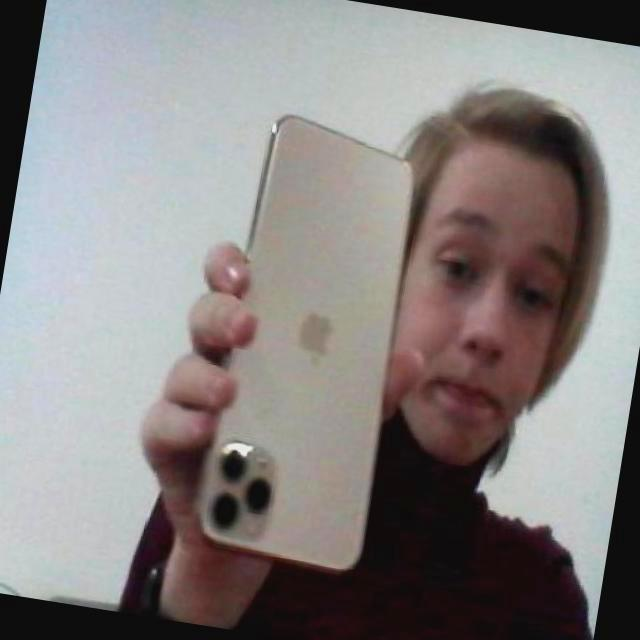lens: (207, 445, 273, 531)
phone: (191, 113, 418, 580)
